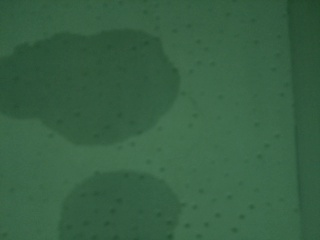Water_detected: (19, 47, 154, 132), (77, 176, 158, 240)
